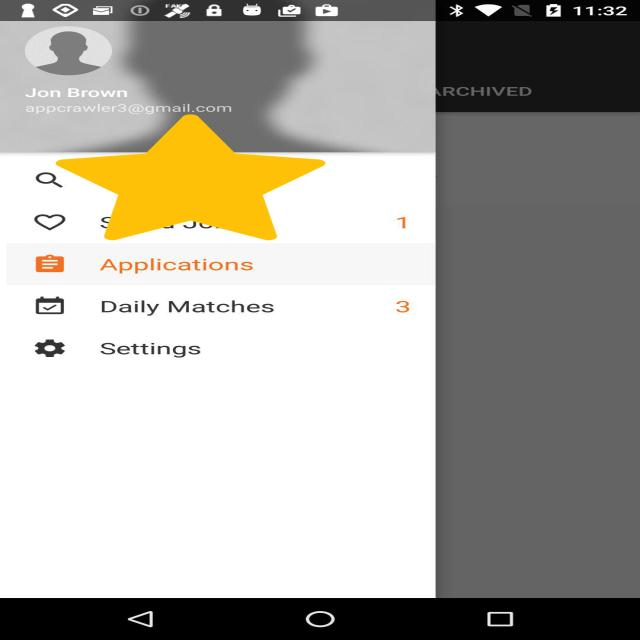forced continuity: (56, 114, 325, 240)
